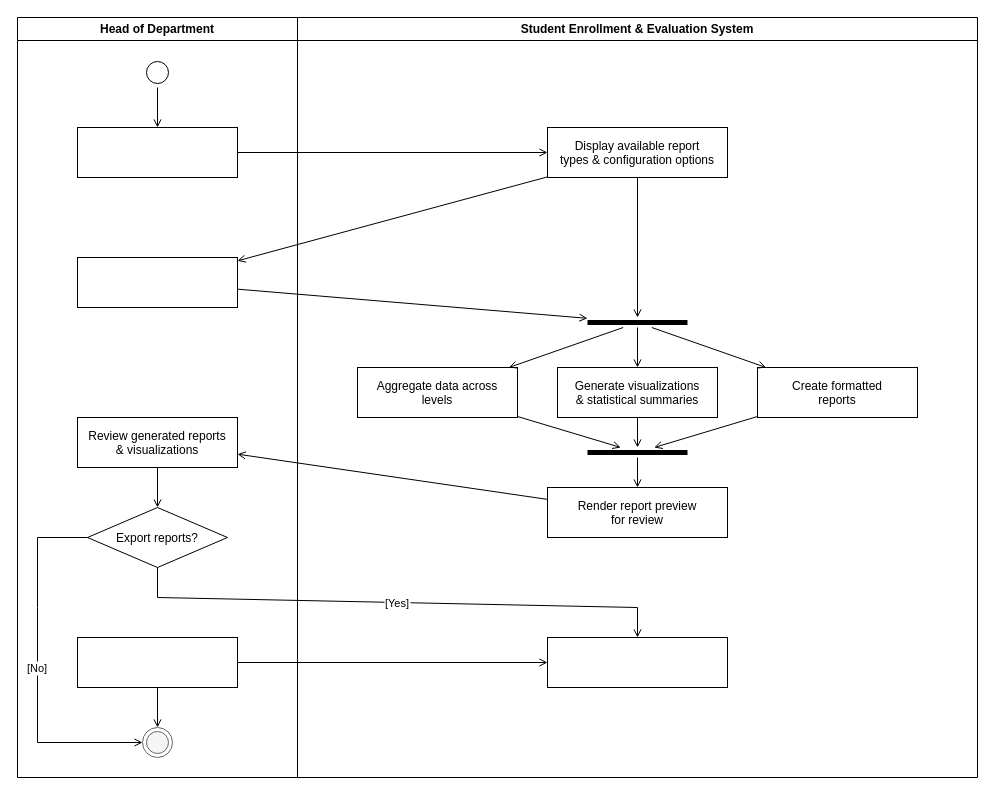
The diagram is 995 pixels wide and 795 high, and some of its shapes have lost their labels. Here are the shapes that lost their labels. From the top down, the centre of each, then its label:
At point (157, 152): "Access performance reporting interface".
At point (157, 282): "Select report type & parameters".
At point (157, 662): "Export reports".
At point (637, 662): "Prepare export files".
